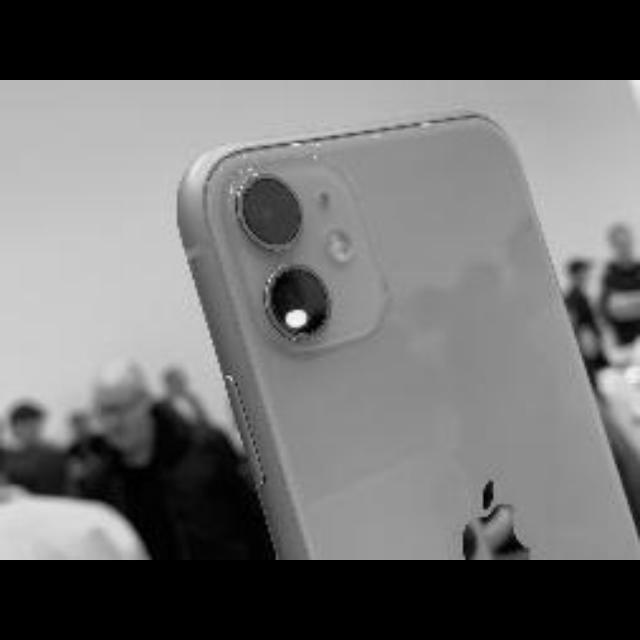fake: (180, 116, 640, 560)
